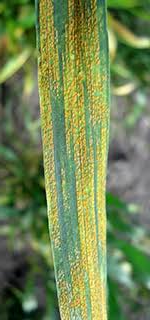Leaf Rust: (38, 37, 114, 313)
